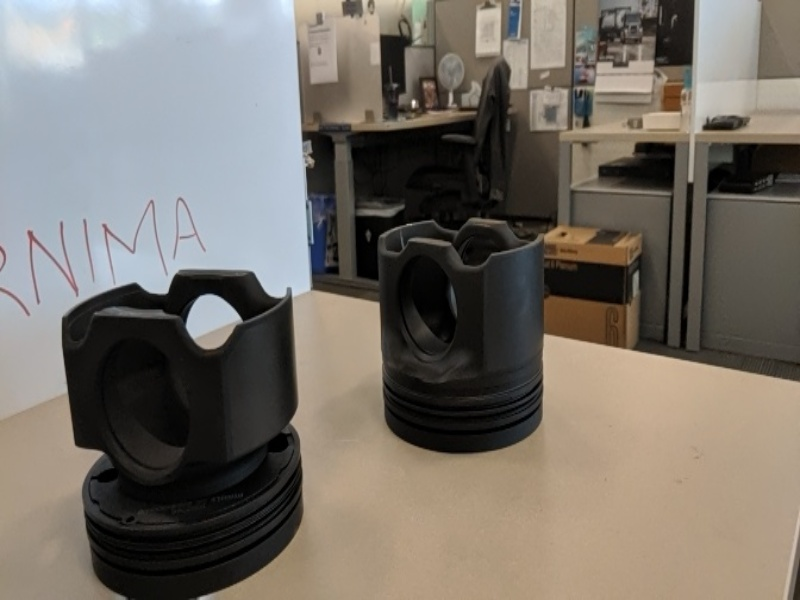piston: (56, 264, 316, 600), (373, 212, 562, 459)
